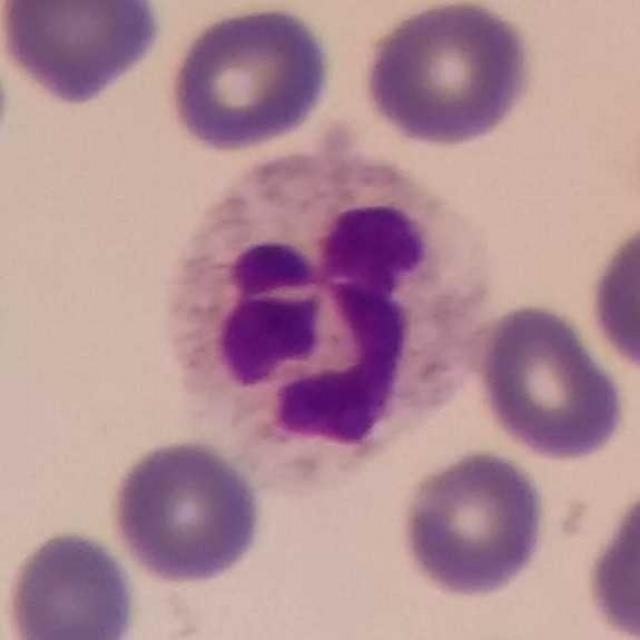Neutrophil: (149, 141, 503, 502)
RBC: (357, 0, 540, 150), (164, 1, 337, 155), (473, 297, 630, 464), (105, 434, 268, 587), (395, 445, 552, 601), (0, 0, 167, 107), (1, 525, 141, 640), (582, 476, 640, 640), (585, 213, 640, 380)
